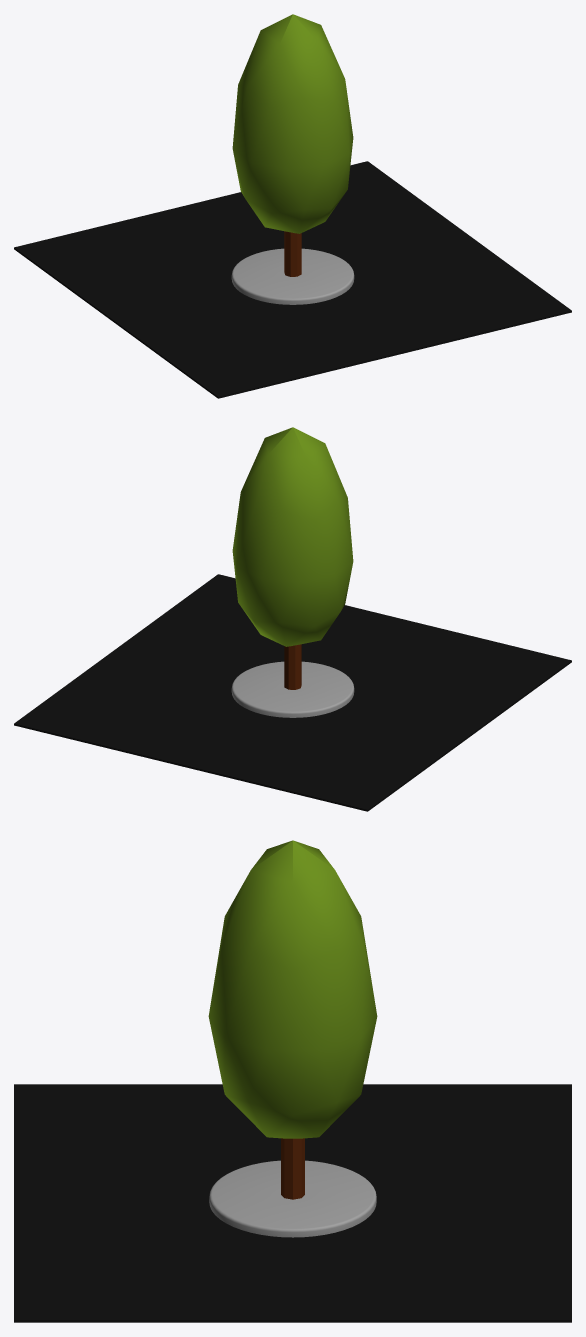
The model's file is road_roundabout.fbx.
3 views of the same model, one above another, from view 1: azimuth 30°, elevation 25°; view 2: azimuth 150°, elevation 25°; view 3: azimuth 270°, elevation 25° (orthographic). The views are drawn at different scales.
Parts seen in each view (by area): view 1: N_Road_Roundabout; view 2: N_Road_Roundabout; view 3: N_Road_Roundabout.
Boxes of the visible parts, x1=… form: N_Road_Roundabout: x1=14, y1=14, x2=571, y2=398; N_Road_Roundabout: x1=14, y1=427, x2=571, y2=811; N_Road_Roundabout: x1=14, y1=840, x2=571, y2=1322.
Size of the model in its own units: 1000 by 1000 by 720.
